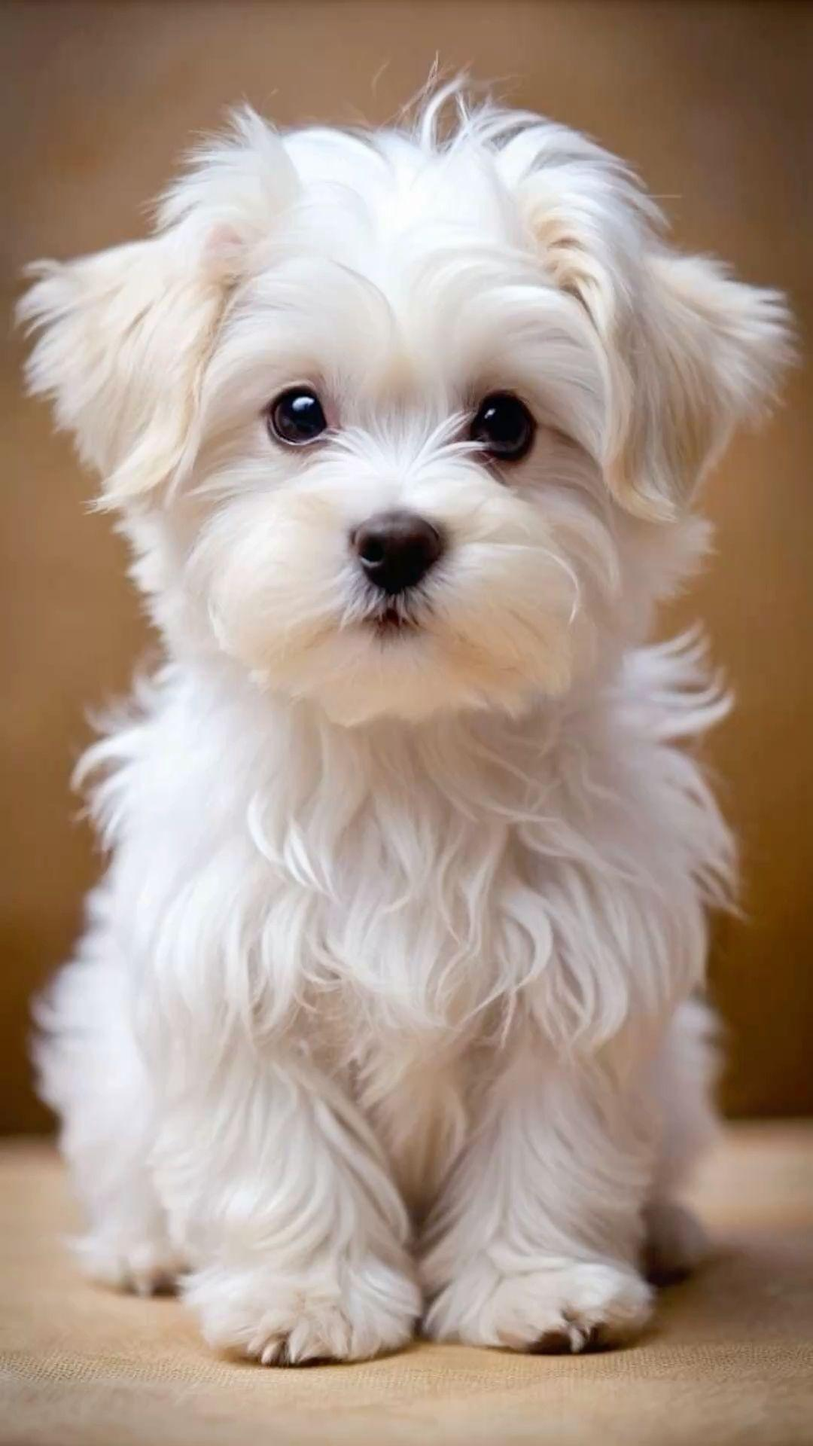puppy-dog: (11, 68, 802, 1366)
